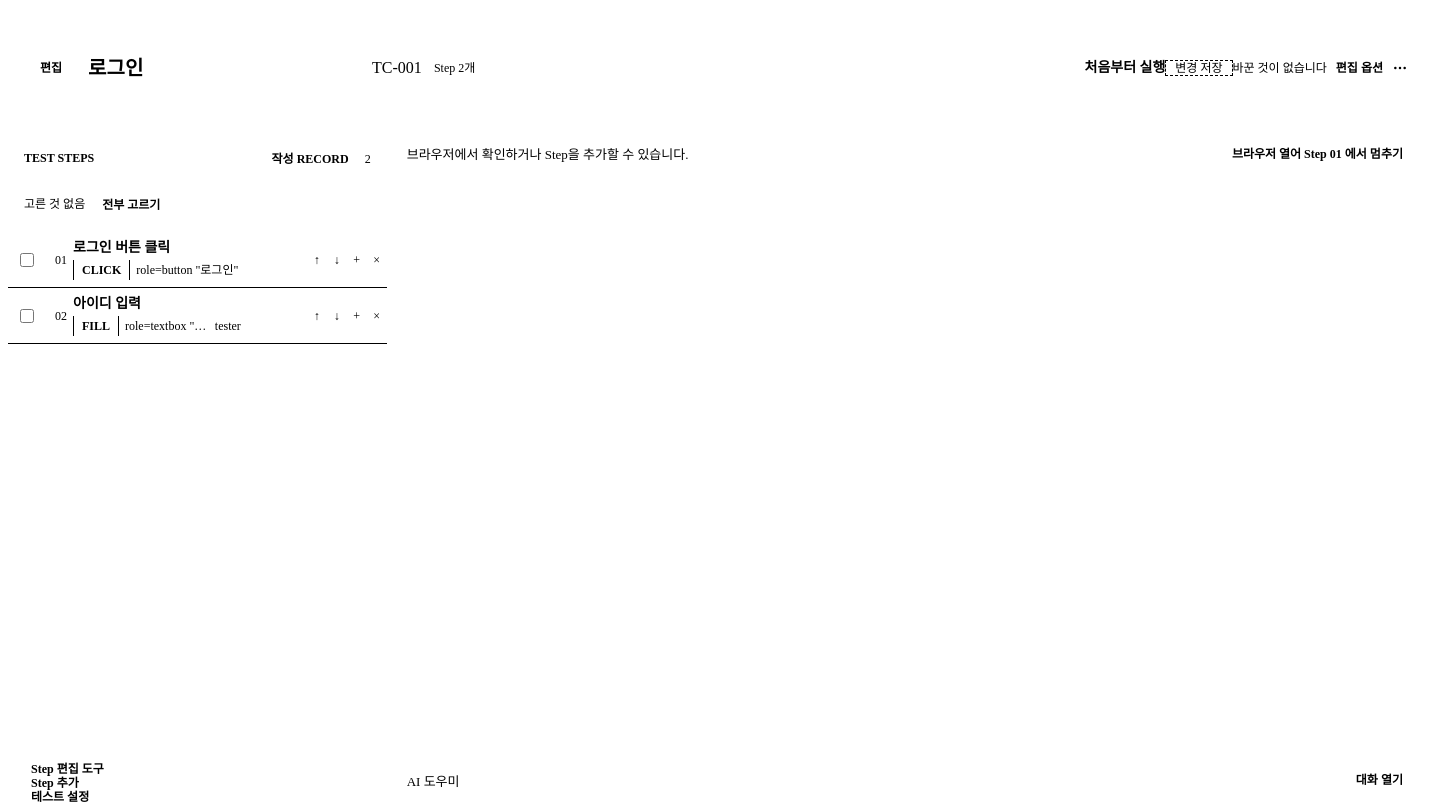
UC-011-24 — 기존 「저장하고 열기」가 그대로 걸린다 › 저장하지 않은 변경이 있으면 그 사실을 미리 말한다
This screenshot has width=1440, height=810.
Type "!" into the field named "테스트 이름". click: {"x": 221, "y": 68}
box: [82,53,360,83]
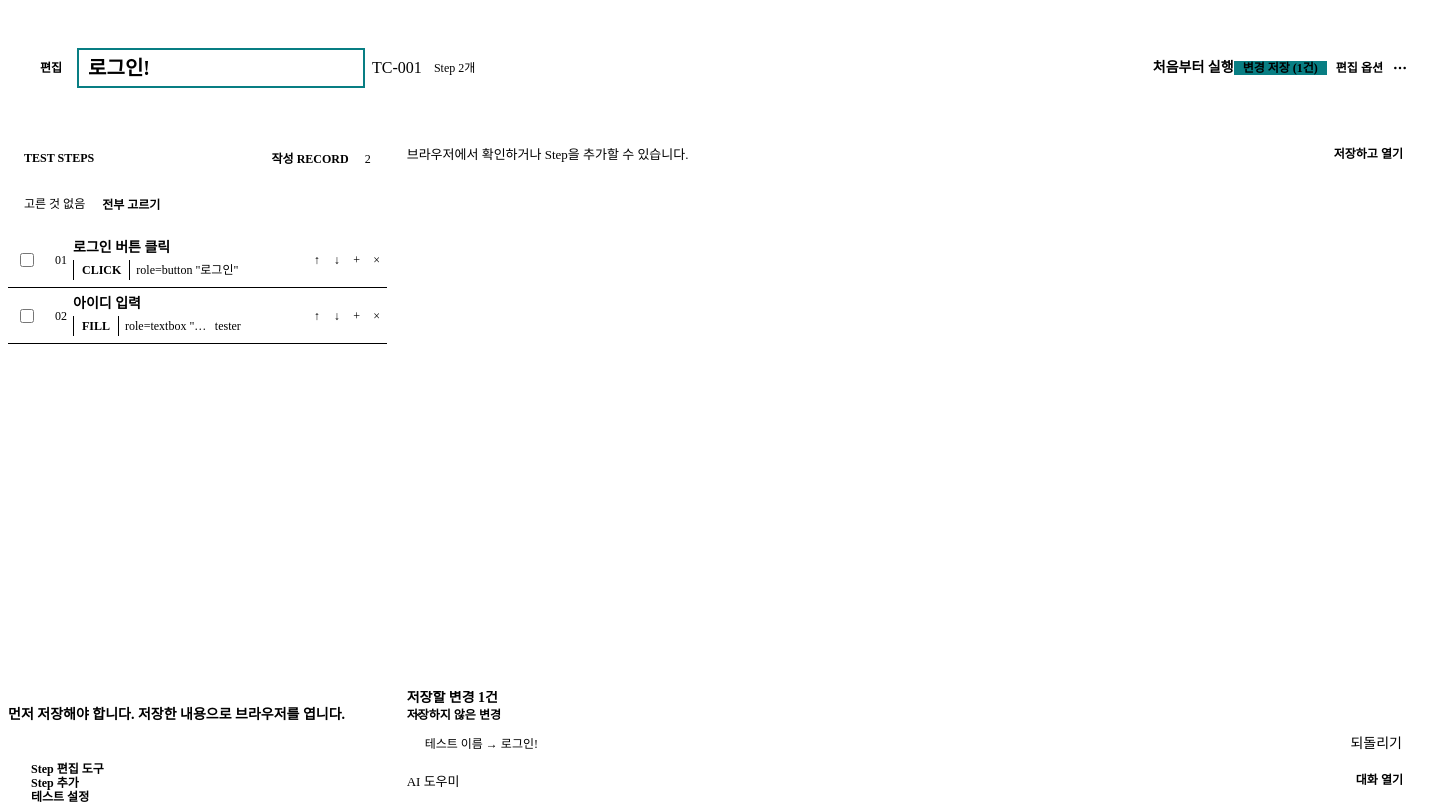
Result: the text "먼저 저장해야 합니다. 저장한 내용으로 브라우저를 엽니다." is shown at [8,707,345,722]
